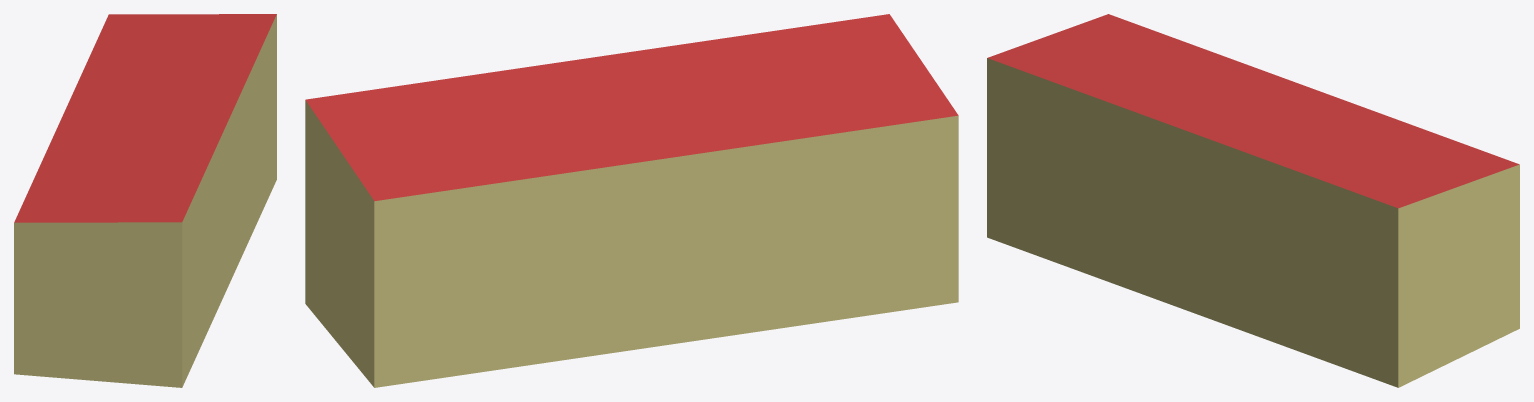
3 renders of one model, left to right at view 1: azimuth 30°, elevation 25°; view 2: azimuth 150°, elevation 25°; view 3: azimuth 270°, elevation 25°, orthographic. The views are drawn at different scales.
Bounding box in the file's own units: 16.16 × 17.35 × 6.45.
